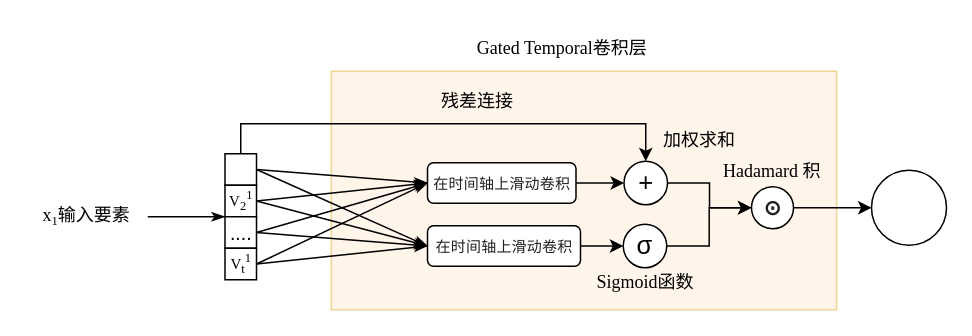
This 972x336 diagram has some shape labels left out. Here are the shapes that lost their labels. From the top down, the box of each, then its label:
(224, 152, 256, 185): V 1 1
(870, 169, 946, 245): V(1,2...t) 1
